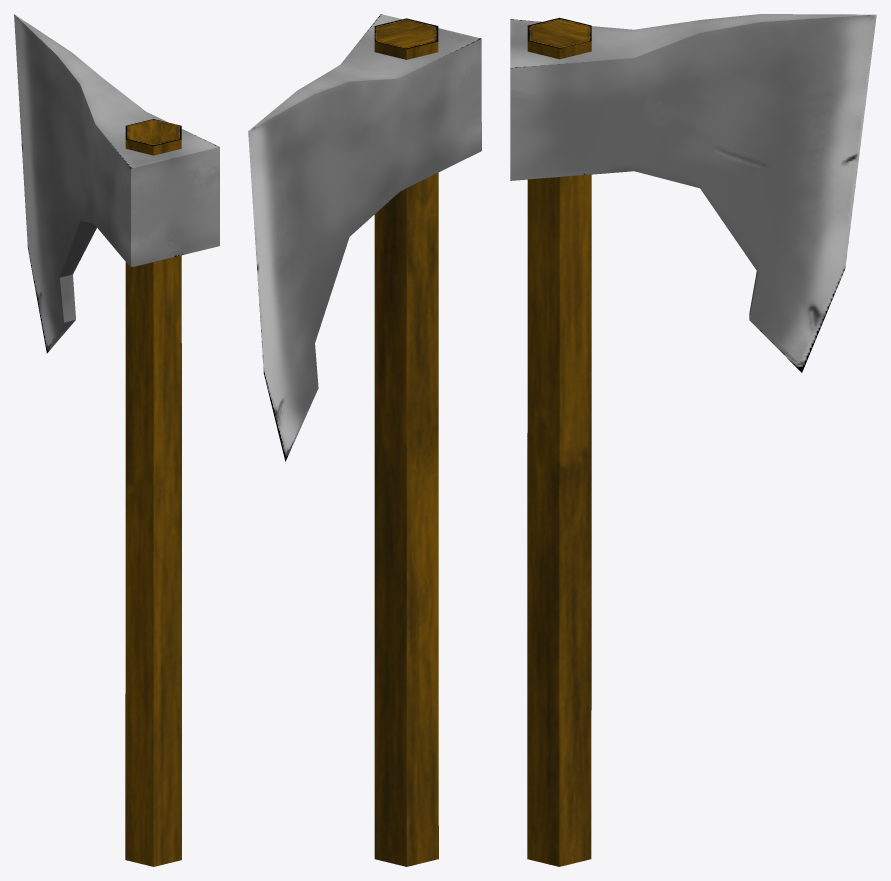
File: Axe.fbx
3 renders of one model, left to right at view 1: azimuth 30°, elevation 25°; view 2: azimuth 150°, elevation 25°; view 3: azimuth 270°, elevation 25°, orthographic. The views are drawn at different scales.
Parts seen in each view (by area): view 1: polySurface1; view 2: polySurface1; view 3: polySurface1.
Part boxes in pixels (x1,y1,x2,y2): polySurface1: (14,14,219,866); polySurface1: (248,14,481,866); polySurface1: (510,14,876,866).
Bounding box in the file's own units: 2.66 × 21.03 × 8.35.
